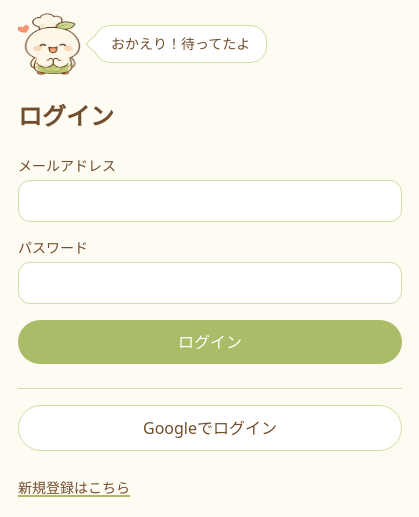
Test case: 新規登録 › こんたてんが迎える。挨拶は場面で変わる
Expected: the text "おかえり！待ってたよ" is shown, [94,25,267,63]
Step 1. Click the button "新規登録はこちら" → x=74, y=488, box [18,478,130,498]
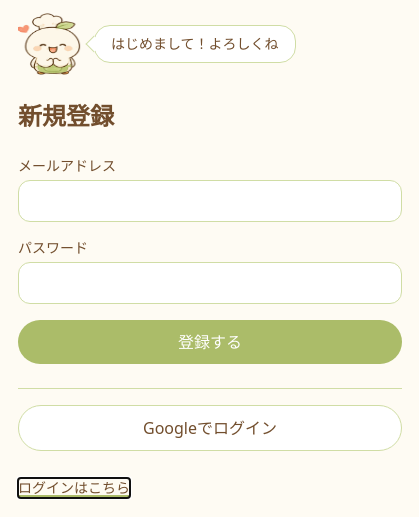
Result: the text "はじめまして！よろしくね" is shown at [94,25,296,63]
Result: the text "おかえり！待ってたよ" is gone
